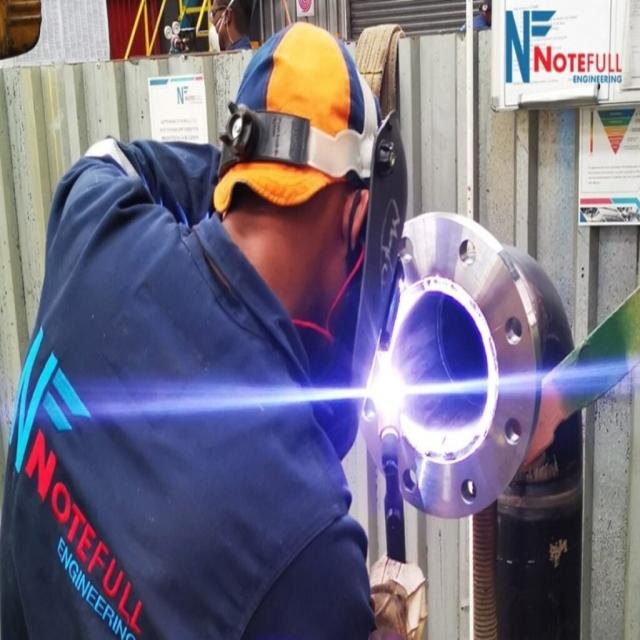welding: (367, 367, 405, 413)
